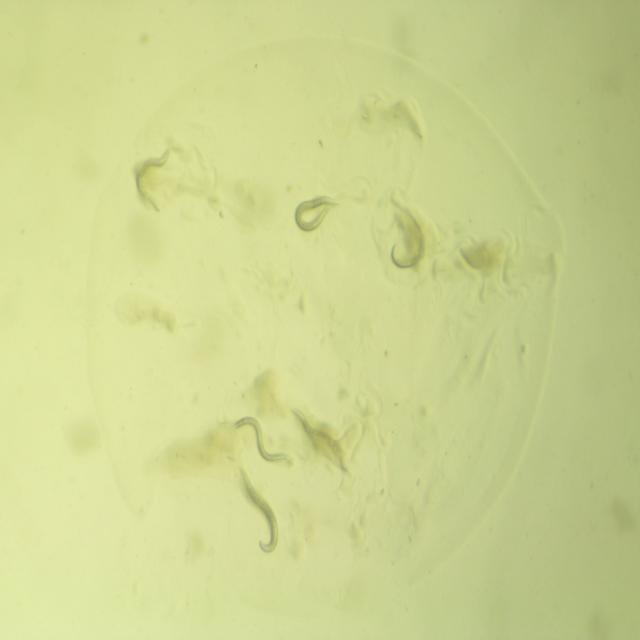worm: (229, 453, 288, 579), (284, 396, 356, 487), (372, 186, 433, 288), (214, 403, 298, 477), (120, 139, 180, 224), (284, 178, 352, 246)
